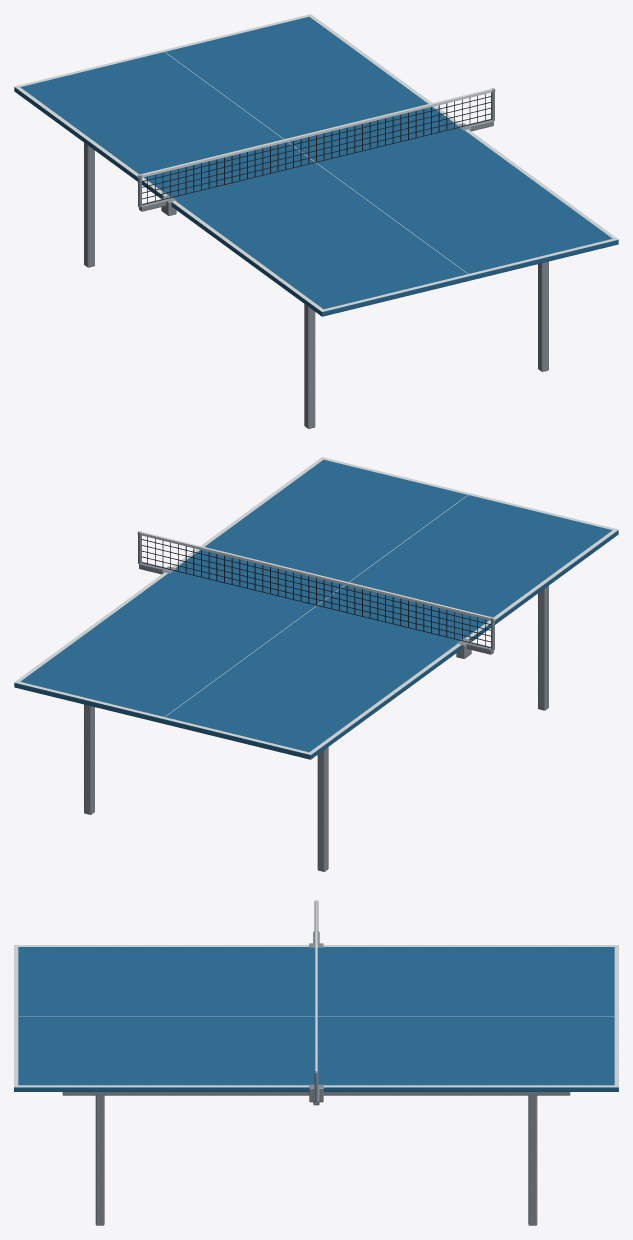
File: table-tennis.glb
The picture shows the model from 3 angles, top to bottom: view 1: azimuth 30°, elevation 25°; view 2: azimuth 150°, elevation 25°; view 3: azimuth 270°, elevation 25°; orthographic projection.
Visible parts, largest first — view 1: Table tennis playing surface, White table perimeter marking, Net top tape, Folding table leg, Folding table leg.001, Folding table leg.002; view 2: Table tennis playing surface, White table perimeter marking, Net top tape, Folding table leg.001, Folding table leg, Folding table leg.003; view 3: Table tennis playing surface, White table perimeter marking, Side underframe.001, Folding table leg.002, Folding table leg.003, Doubles centre line, Net top tape.
Boxes of the visible parts, x1,y1,x2,y2 form: Table tennis playing surface: (14,16,618,316); White table perimeter marking: (14,14,618,311); Net top tape: (137,88,495,177); Folding table leg: (304,304,315,428); Folding table leg.001: (84,143,94,267); Folding table leg.002: (538,261,548,371); Table tennis playing surface: (14,459,618,759); White table perimeter marking: (14,457,618,754); Net top tape: (137,531,495,620); Folding table leg.001: (317,747,328,871); Folding table leg: (538,586,548,710); Folding table leg.003: (84,704,94,814); Table tennis playing surface: (14,947,618,1091); White table perimeter marking: (14,945,618,1087); Side underframe.001: (62,1092,570,1095); Folding table leg.002: (95,1092,104,1225); Folding table leg.003: (528,1092,537,1225); Doubles centre line: (18,1016,614,1016); Net top tape: (315,900,317,1073).
Size of the model in its own units: 1.83 by 0.9125 by 2.74.
Materials: 4 (4 with a texture image).
